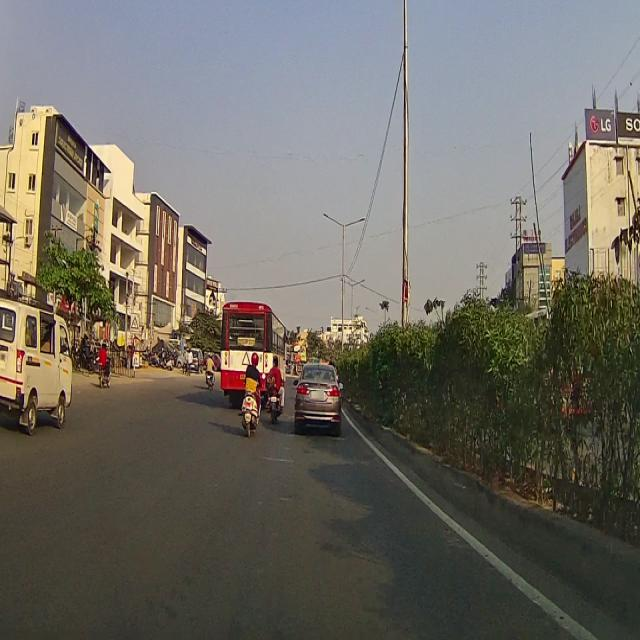side-road-left: (131, 315, 139, 329)
